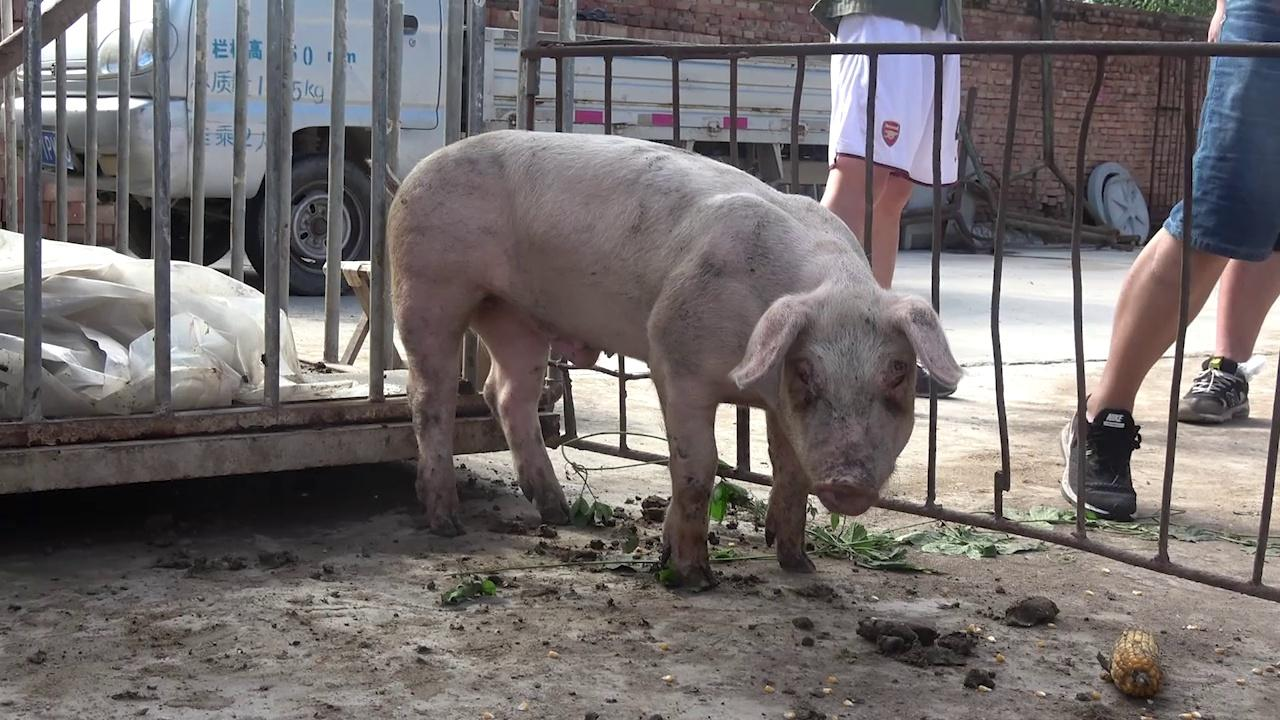Face: (722, 277, 970, 521)
